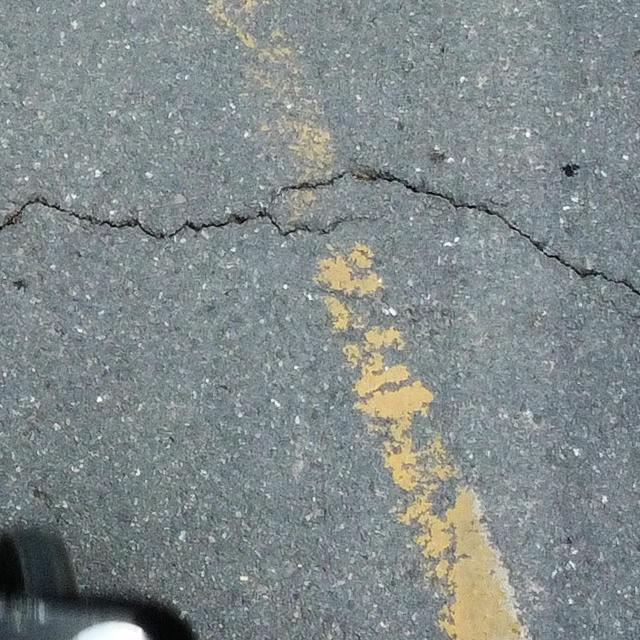TransverseCrack: (1, 167, 640, 294)
